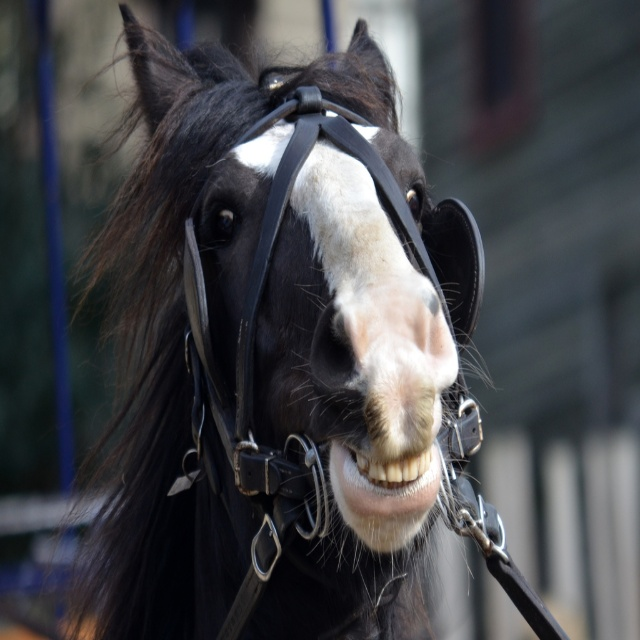Horse: (38, 0, 494, 639)
